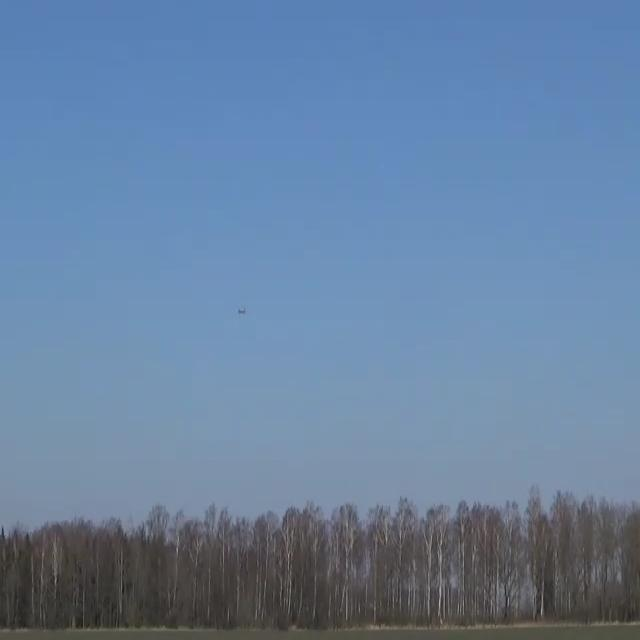Drone: (226, 295, 254, 325)
